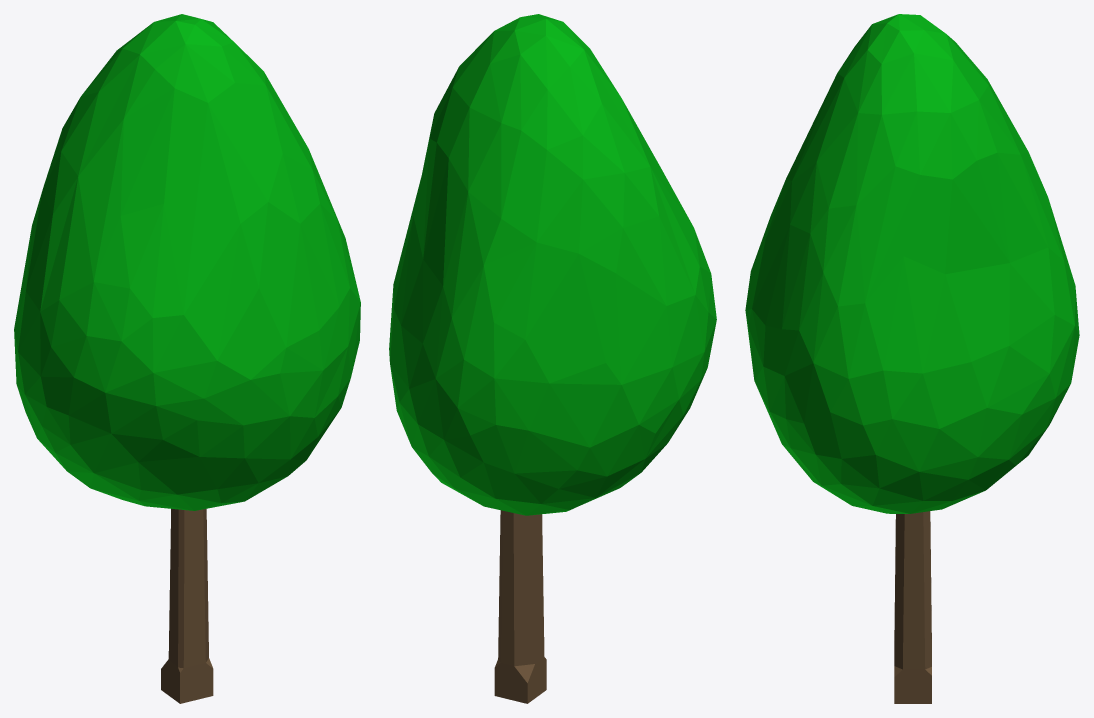
Rendered from Tree.fbx.
3 views of the same model, side by side, from view 1: azimuth 30°, elevation 25°; view 2: azimuth 150°, elevation 25°; view 3: azimuth 270°, elevation 25° (orthographic).
Parts seen in each view (by area): view 1: Cube; view 2: Cube; view 3: Cube.
Boxes of the visible parts, left/top/right/bottom form: Cube: left=14, top=14, right=360, bottom=703; Cube: left=389, top=14, right=716, bottom=703; Cube: left=745, top=14, right=1079, bottom=703.
Bounding box in the file's own units: 1820 × 3912 × 1760.
